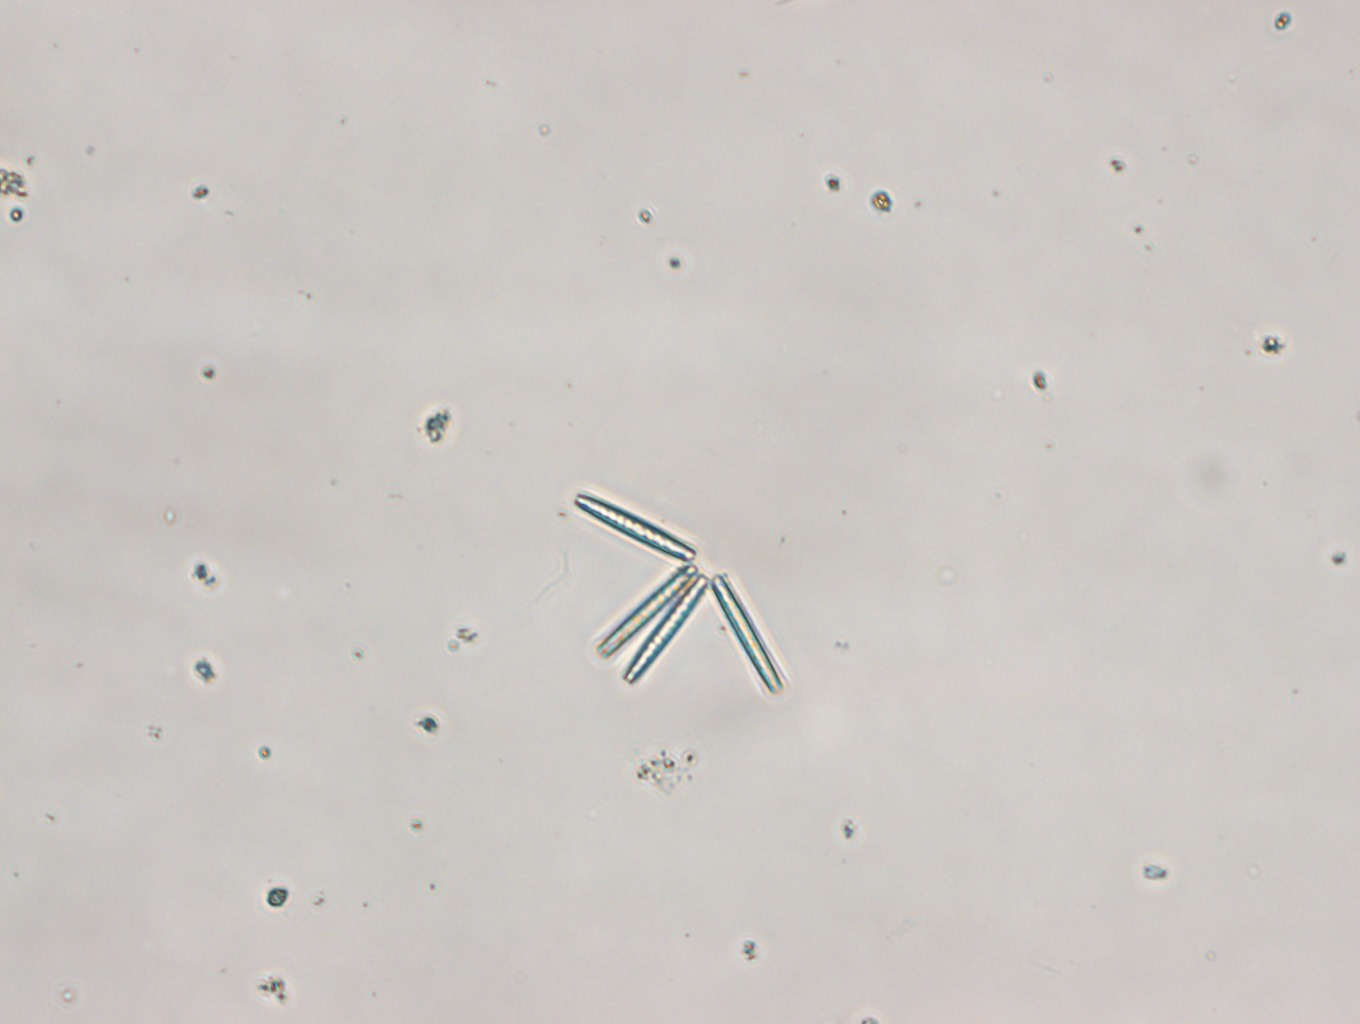thalassionema nitzschioides: (576, 490, 782, 695)
